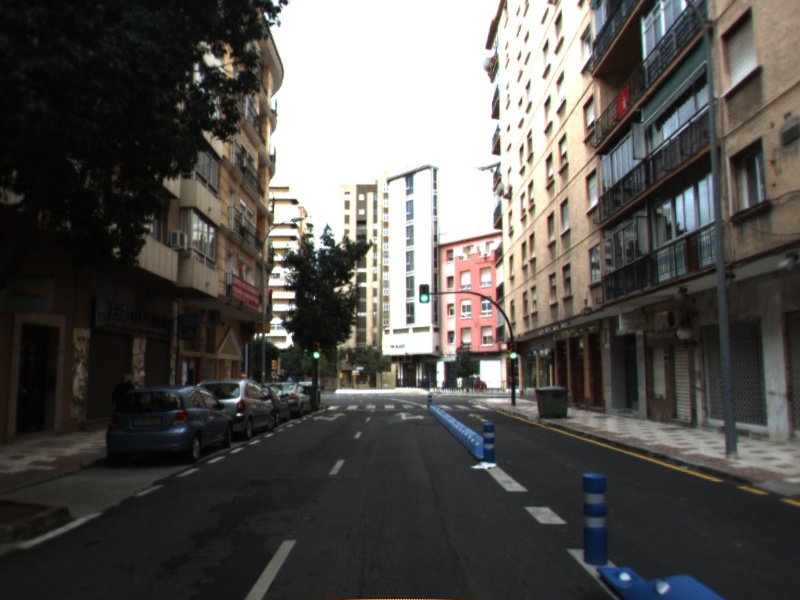STRAIGHT: (466, 411, 490, 423)
STRAIGHT_LEFT: (312, 411, 348, 423)
STRAIGHT_RIGHT: (394, 410, 427, 422)
